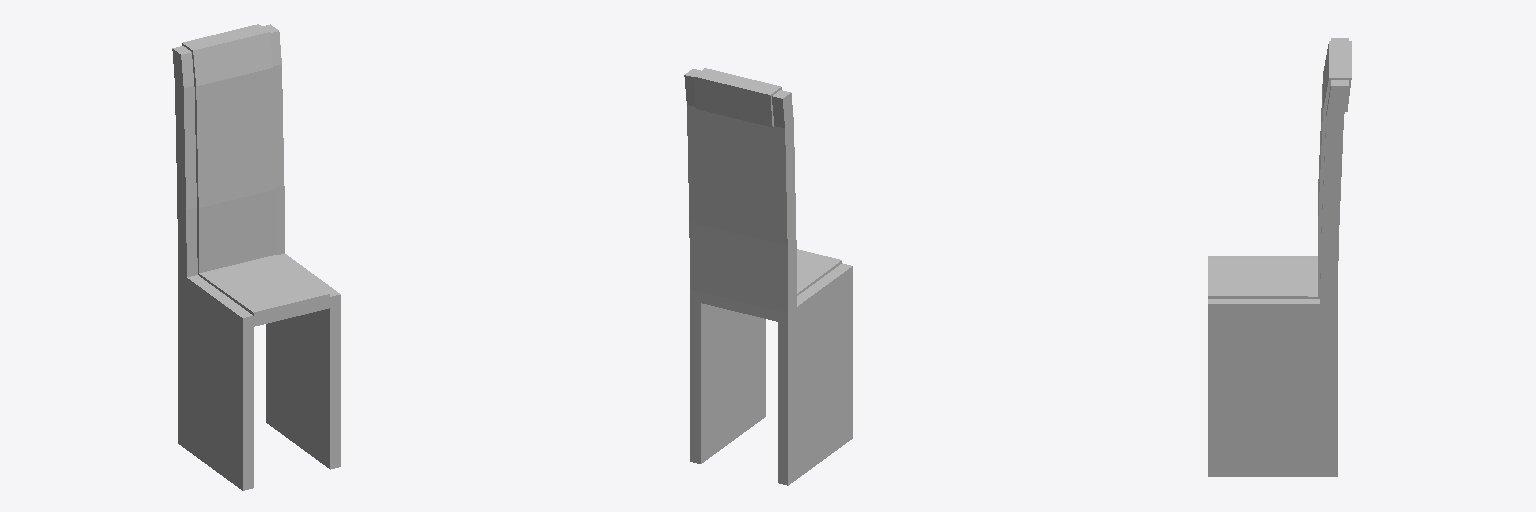
Rendered from SEDIA CASA.obj.
3 renders of one model, left to right at view 1: azimuth 30°, elevation 25°; view 2: azimuth 150°, elevation 25°; view 3: azimuth 270°, elevation 25°, orthographic.
Visible parts, largest first — view 1: SEDIA_CASA; view 2: SEDIA_CASA; view 3: SEDIA_CASA.
Boxes of the visible parts, x1,y1,x2,y2 form: SEDIA_CASA: [172, 24, 340, 490]; SEDIA_CASA: [684, 68, 852, 485]; SEDIA_CASA: [1208, 38, 1351, 476].
Size of the model in its own units: 22.22 by 84.96 by 28.07.